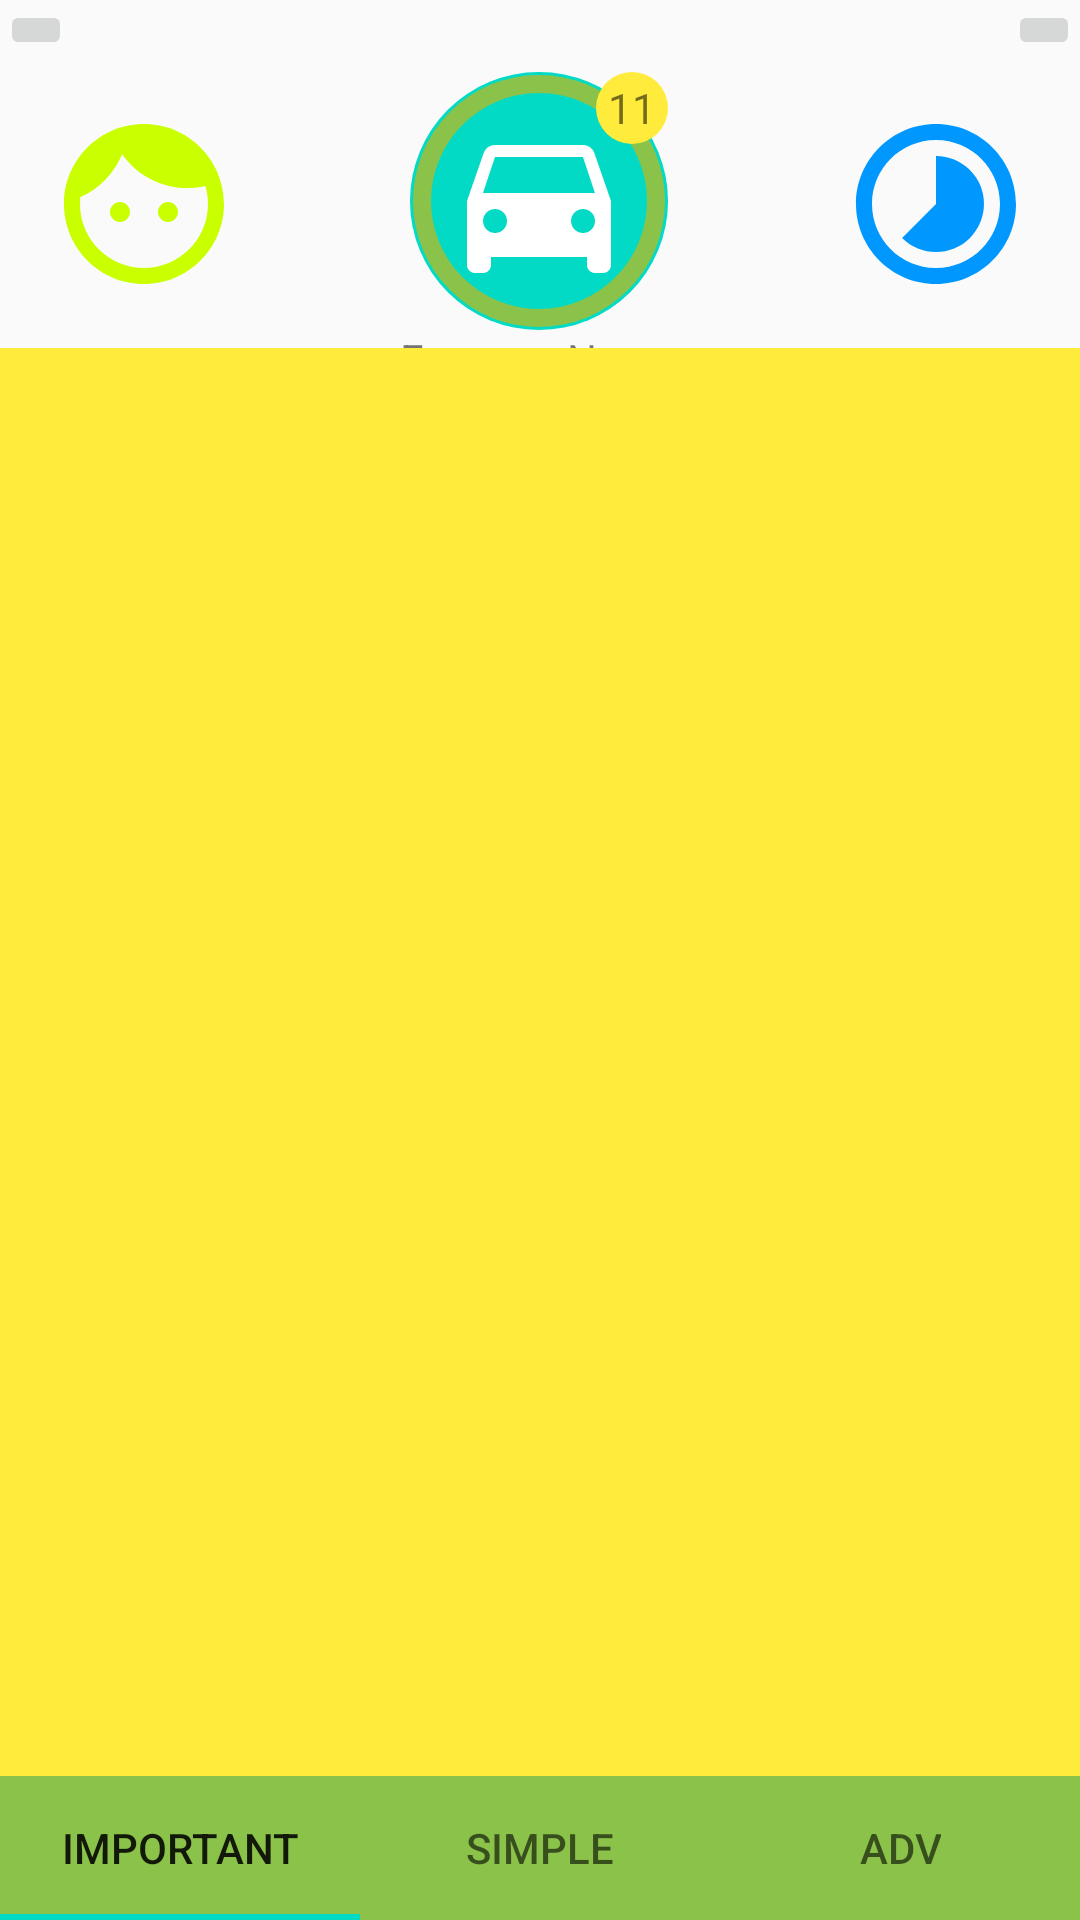

Screen size 1080px x 1920px. Icon name, then its box in pixels as [left=x1, top=y1, right=x2, bottom=y2]:
directions car: [left=410, top=72, right=668, bottom=330]
face: [left=64, top=124, right=224, bottom=284]
time: [left=855, top=124, right=1016, bottom=284]
